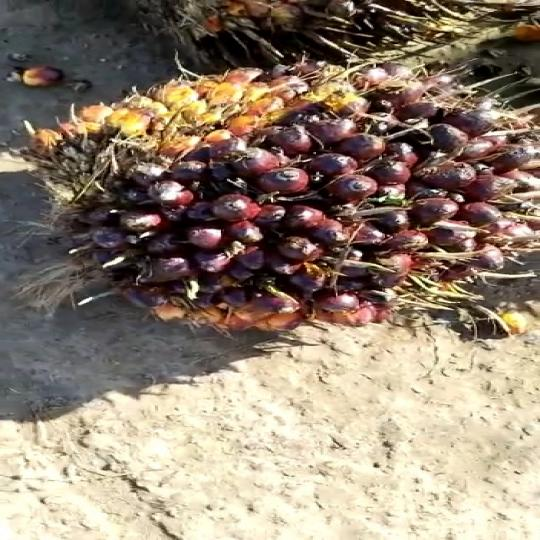kurang masak: (0, 45, 540, 350)
